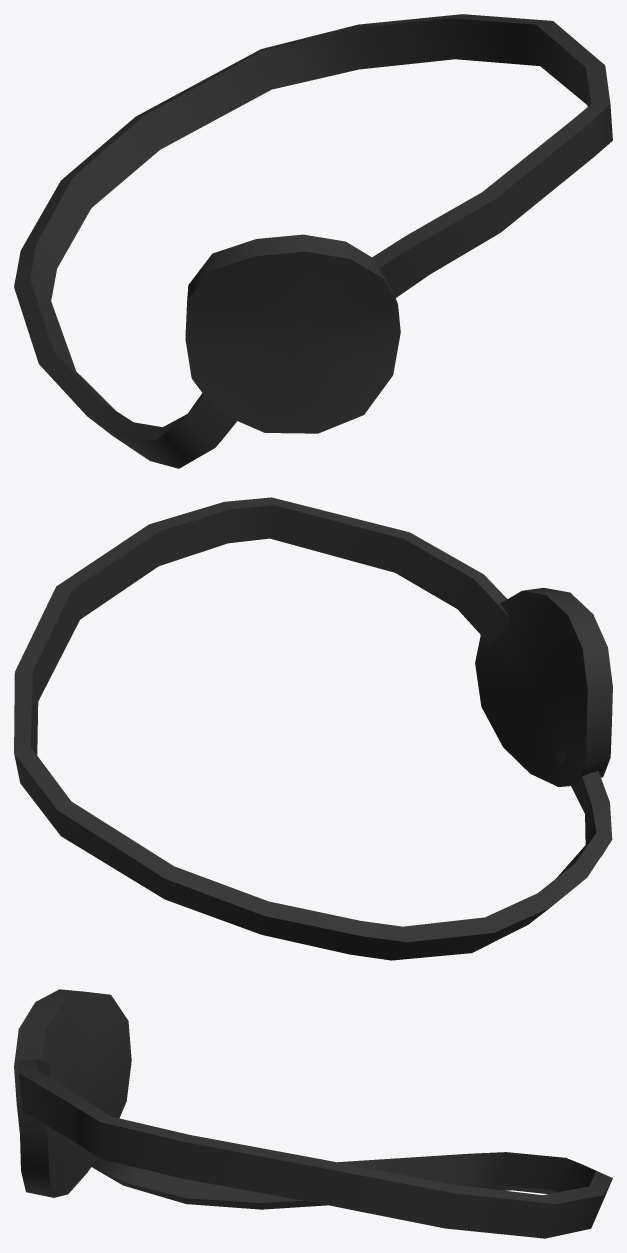
File: Eyewear_18.fbx
3 renders of one model, top to bottom at view 1: azimuth 30°, elevation 25°; view 2: azimuth 150°, elevation 25°; view 3: azimuth 270°, elevation 25°, orthographic. The views are drawn at different scales.
Visible parts, largest first — view 1: Eyewear_18; view 2: Eyewear_18; view 3: Eyewear_18.
Part boxes in pixels (x1=…): Eyewear_18: x1=14, y1=14, x2=612, y2=468; Eyewear_18: x1=14, y1=497, x2=612, y2=960; Eyewear_18: x1=14, y1=989, x2=612, y2=1238.
Size of the model in its own units: 47.41 by 26.65 by 51.4.
